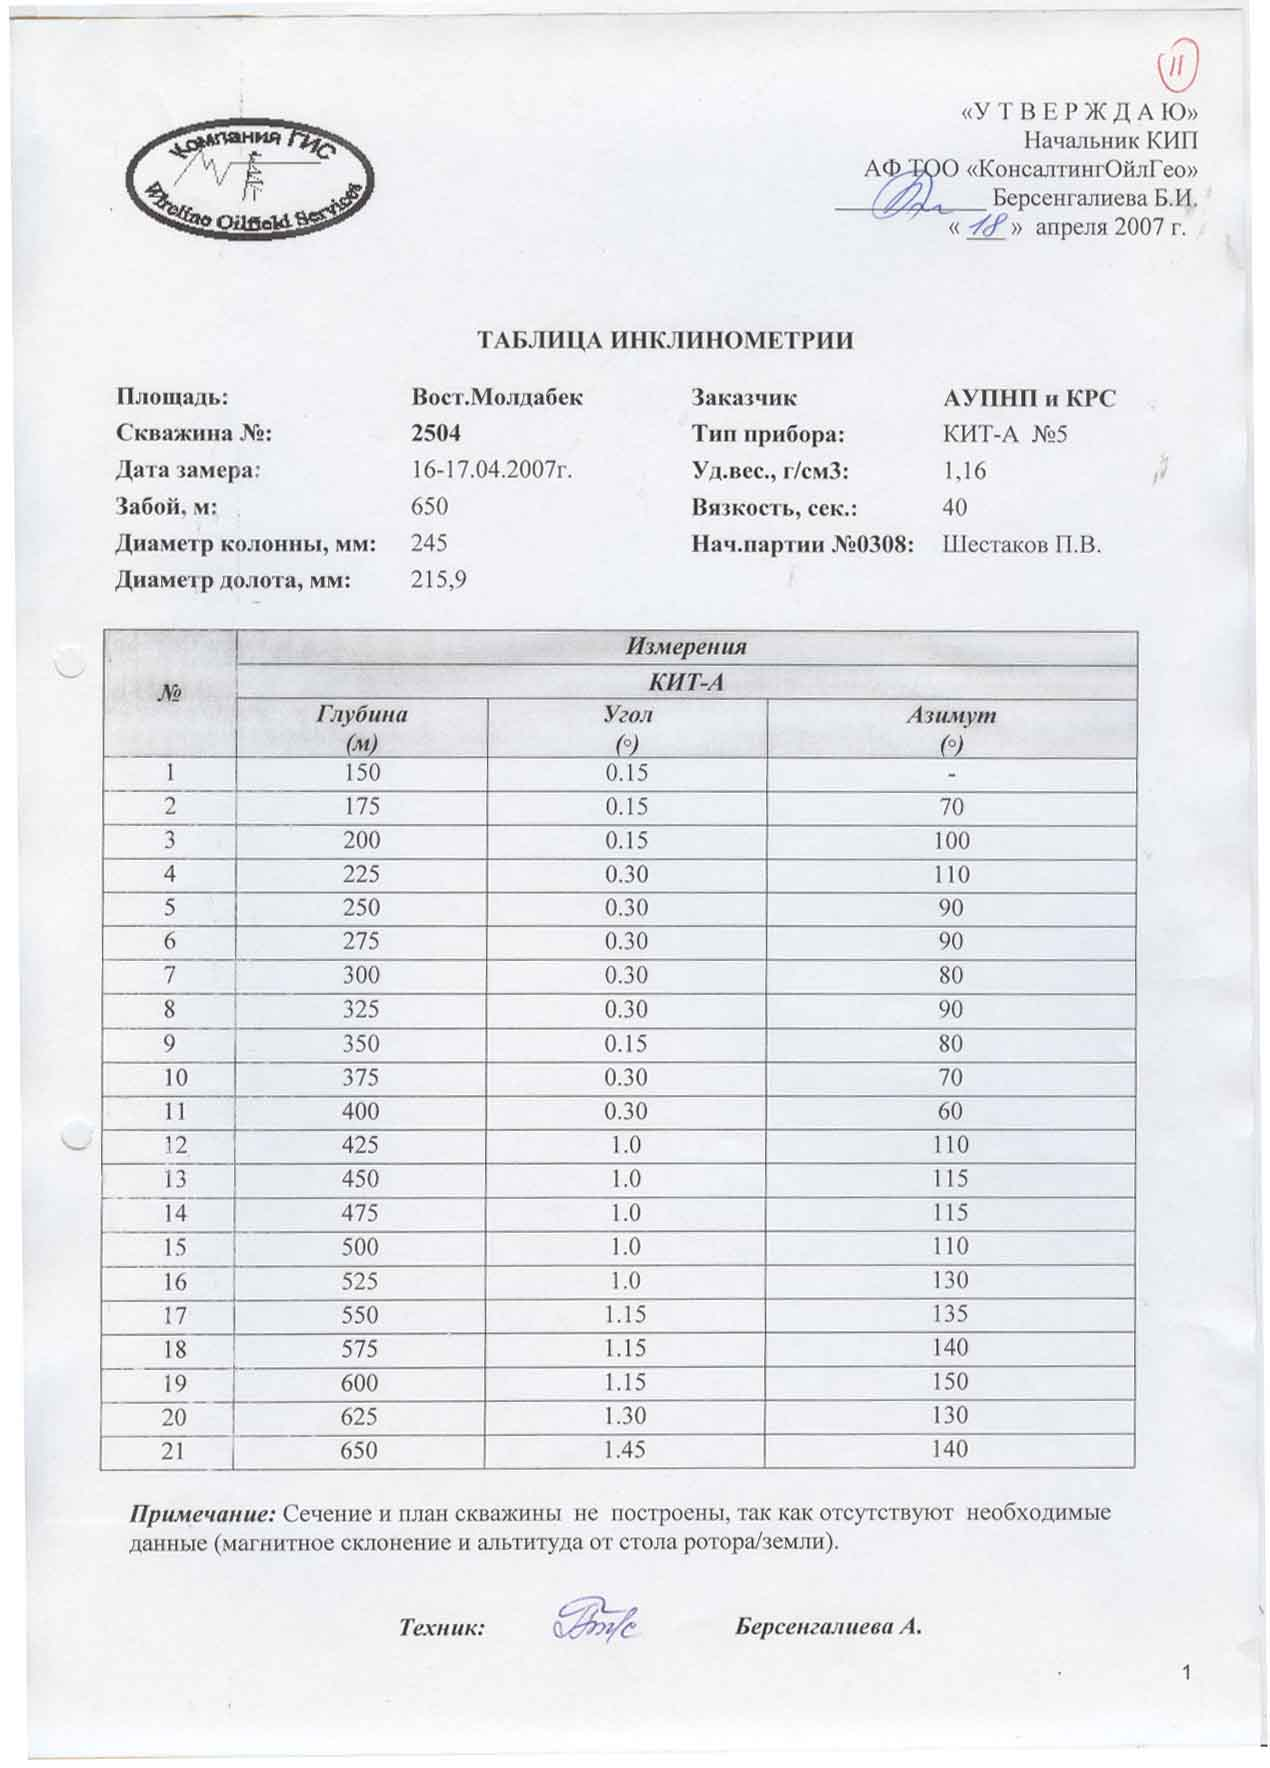Bordered: (96, 625, 1138, 1473)
